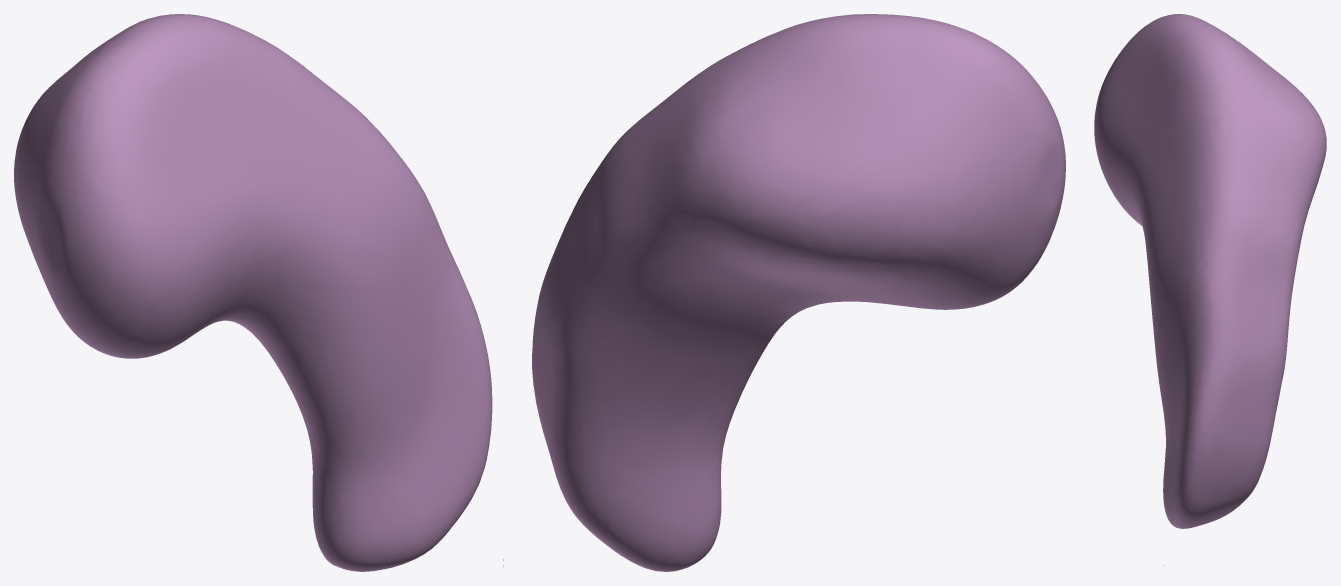
The picture shows the model from 3 angles, left to right: view 1: azimuth 30°, elevation 25°; view 2: azimuth 150°, elevation 25°; view 3: azimuth 270°, elevation 25°; orthographic projection. The views are drawn at different scales.
Visible parts, largest first — view 1: 左侧下半月小叶; view 2: 左侧下半月小叶; view 3: 左侧下半月小叶.
Part boxes in pixels (left/top/right/bottom): 左侧下半月小叶: left=14, top=14, right=503, bottom=571; 左侧下半月小叶: left=532, top=14, right=1065, bottom=571; 左侧下半月小叶: left=1094, top=14, right=1326, bottom=565.
Bounding box in the file's own units: 0.07 × 0.0858 × 0.0421.
